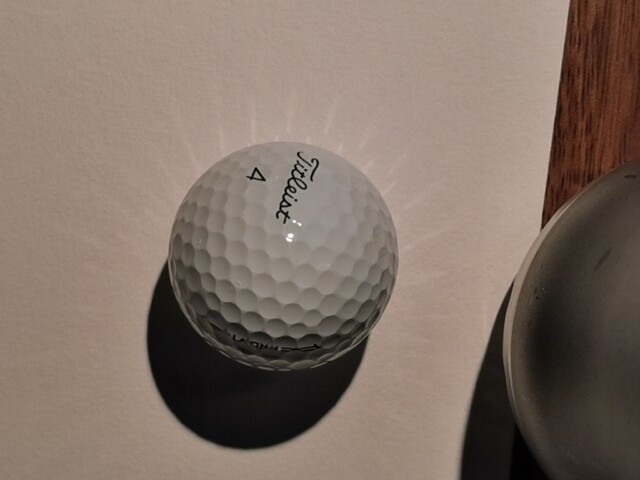Ball: (166, 141, 399, 370)
Titleist: (275, 151, 319, 224)
